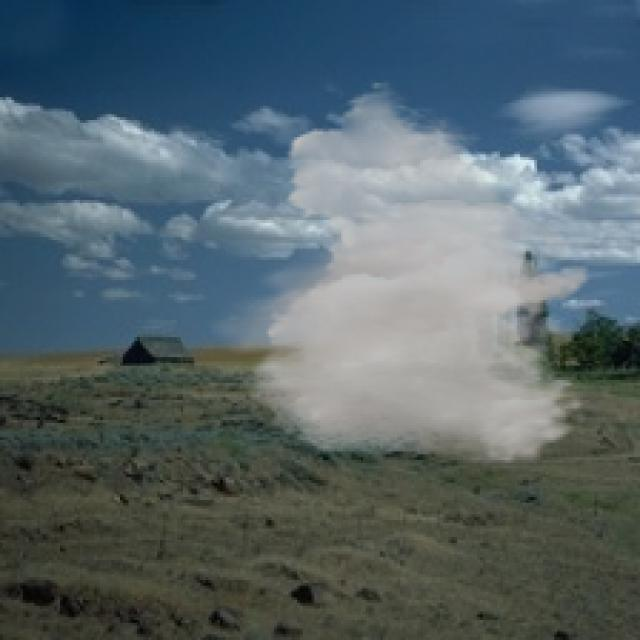smoke: (203, 80, 591, 466)
